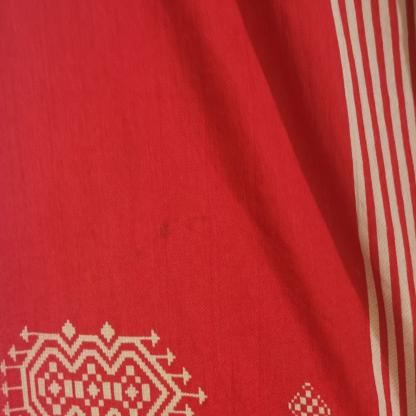spot: (157, 211, 176, 240)
